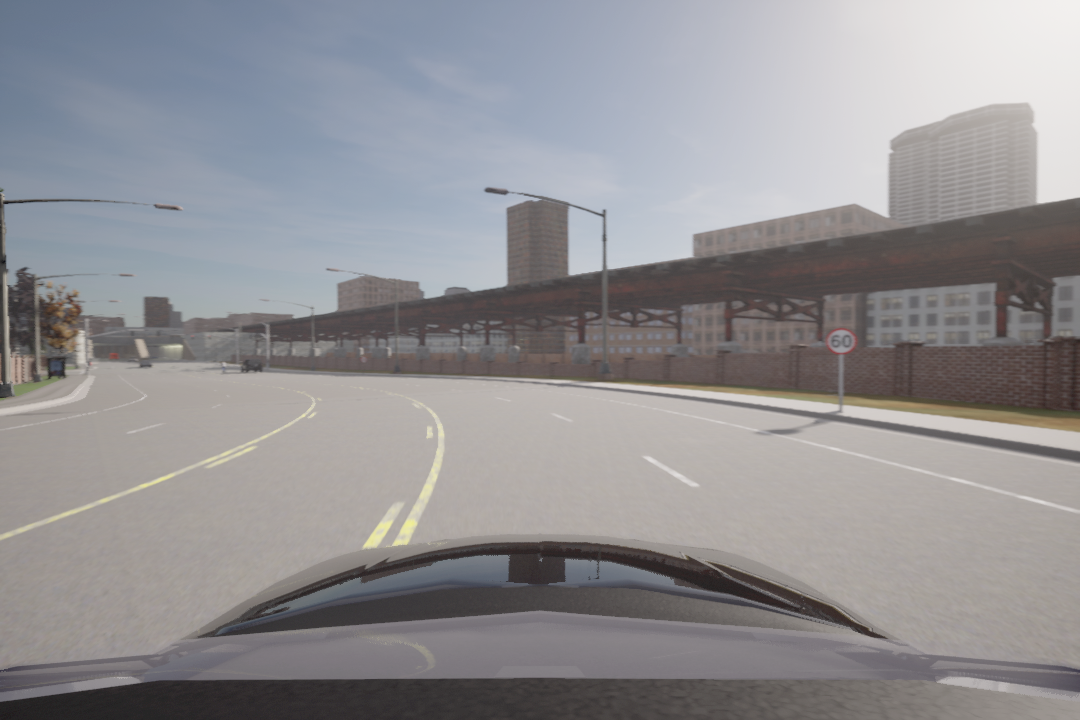TrafficSign_speed: (823, 330, 857, 352)
